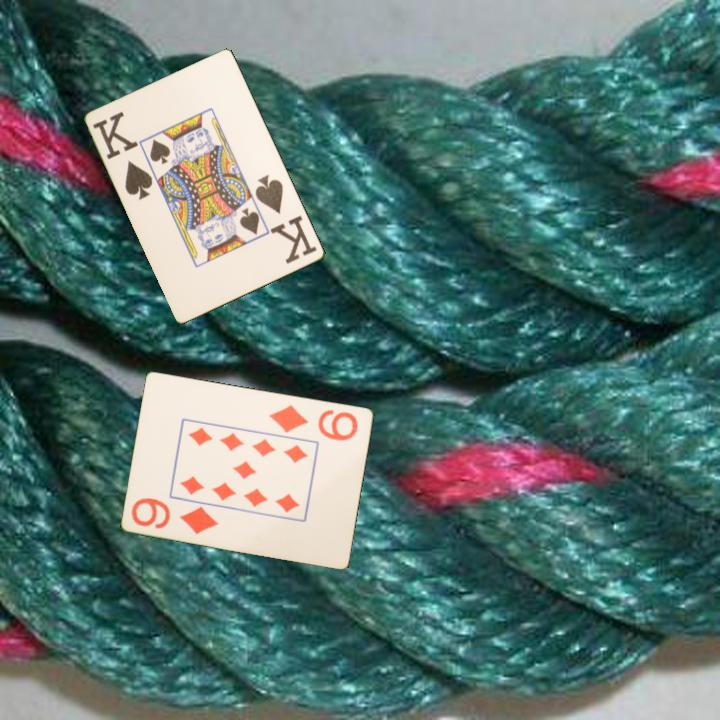9d: (128, 494, 221, 537), (266, 401, 361, 443)
Ks: (252, 171, 320, 267), (90, 108, 156, 203)
